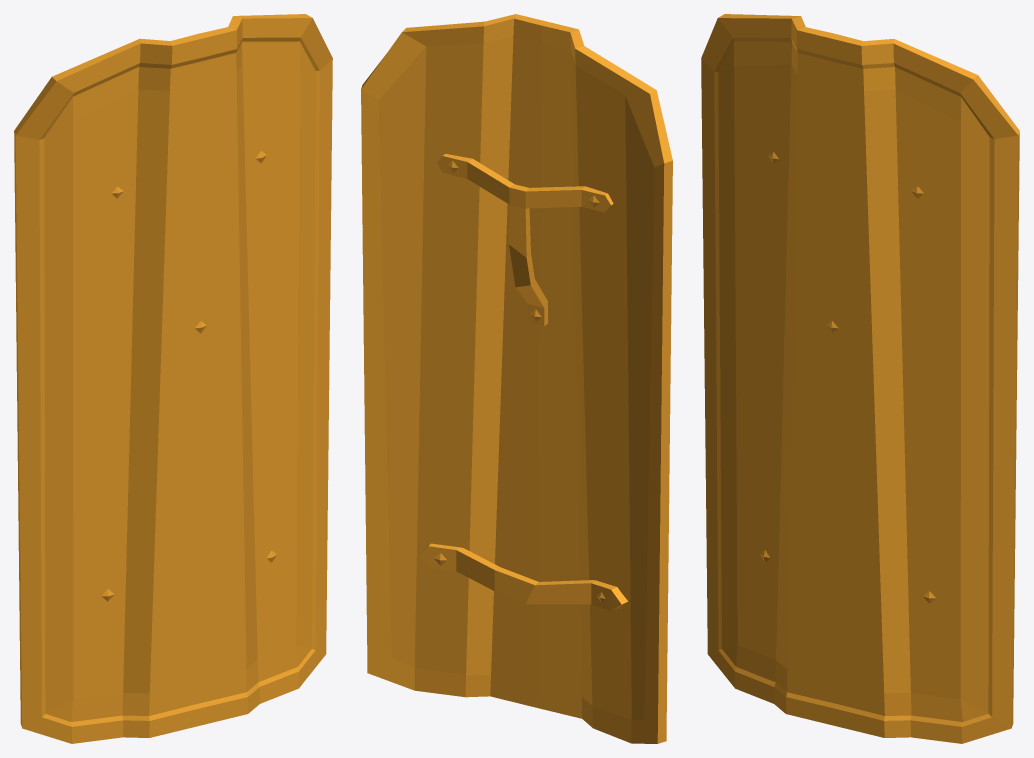
Rendered from SM_Shield_Pavise_A.fbx.
3 views of the same model, side by side, from view 1: azimuth 30°, elevation 25°; view 2: azimuth 150°, elevation 25°; view 3: azimuth 330°, elevation 25° (orthographic). The views are drawn at different scales.
Visible parts, largest first — view 1: shield-pavise-a; view 2: shield-pavise-a; view 3: shield-pavise-a.
Boxes of the visible parts, x1,y1,x2,y2 form: shield-pavise-a: (14,14,332,743); shield-pavise-a: (361,14,672,743); shield-pavise-a: (701,14,1019,743).
Size of the model in its own units: 0.7638 by 1.59 by 0.1487.
